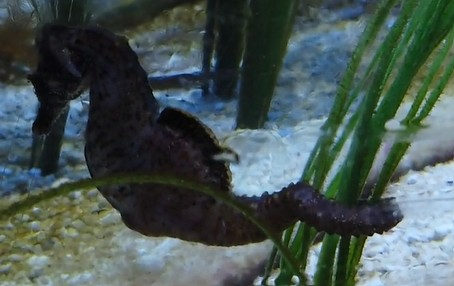seahorse: (15, 20, 418, 278)
